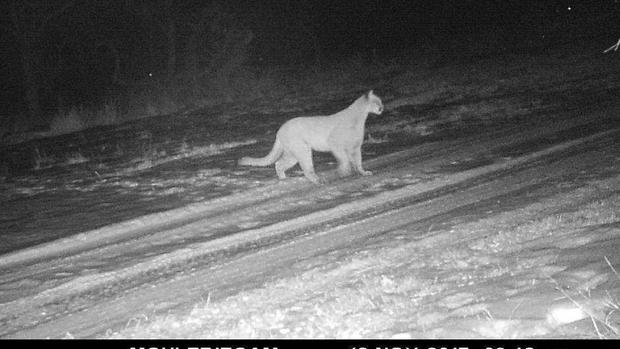mountain lion: (234, 90, 402, 192)
